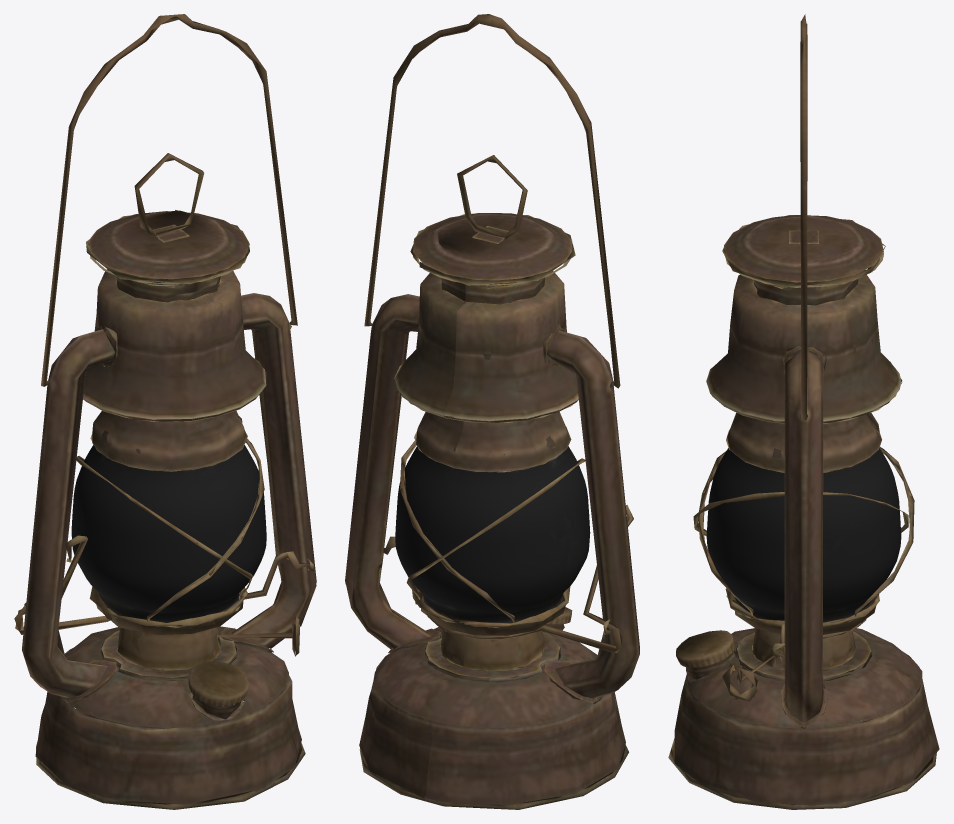
Rendered from Lantern_01.glb.
3 views of the same model, side by side, from view 1: azimuth 30°, elevation 25°; view 2: azimuth 150°, elevation 25°; view 3: azimuth 270°, elevation 25° (orthographic).
Parts seen in each view (by area): view 1: Lantern_01, Lantern_01_glass; view 2: Lantern_01, Lantern_01_glass; view 3: Lantern_01, Lantern_01_glass.
Boxes of the visible parts, x1,y1,x2,y2 form: Lantern_01: (14, 14, 316, 809); Lantern_01_glass: (71, 445, 266, 622); Lantern_01: (345, 14, 639, 809); Lantern_01_glass: (395, 446, 590, 622); Lantern_01: (668, 14, 939, 809); Lantern_01_glass: (706, 448, 901, 622).
Bounding box in the file's own units: 0.1224 × 0.2941 × 0.0983.
2 materials, 2 textured.
